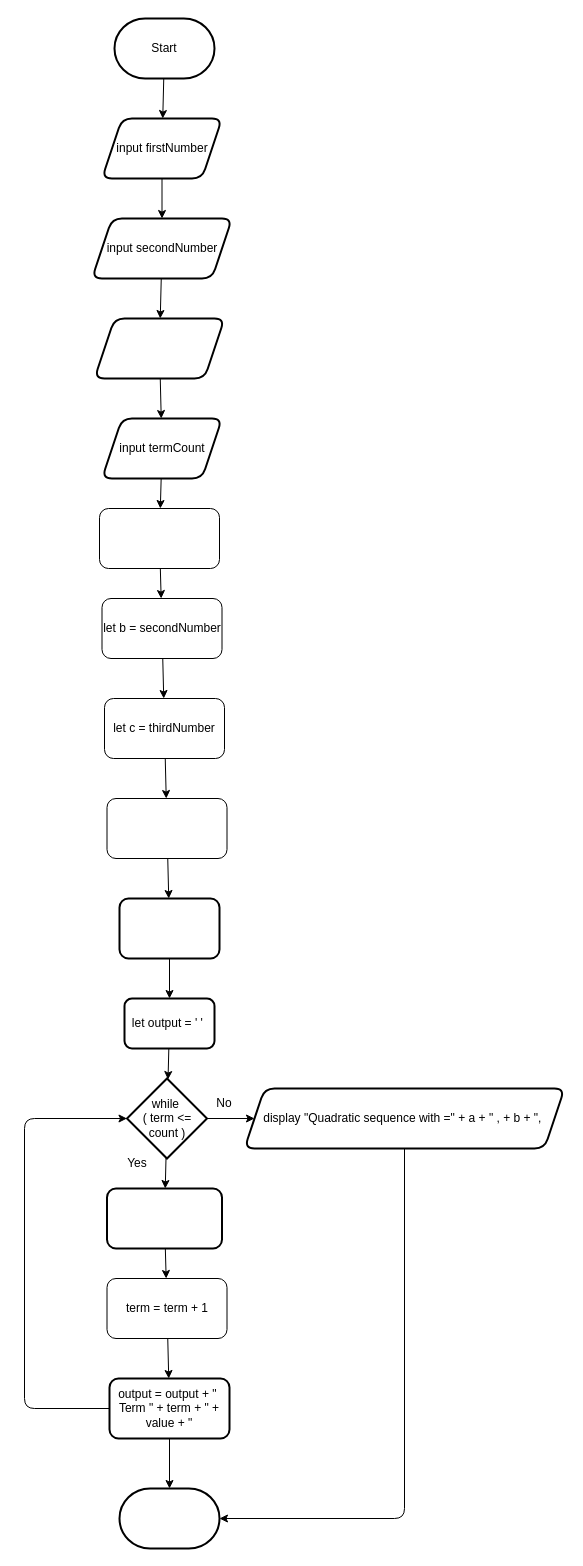
This 583x1566 diagram has some shape labels left out. The centre of each missing label's shape, as x and y in pixels:
"input thirdNumber" goes at (159,348).
"let a = firstNumber" goes at (159,538).
"let count = termCount" goes at (166,828).
"let term = 1" goes at (169,928).
"let term = a * term * term + b * term + c" goes at (164,1218).
"Stop" goes at (169,1518).
